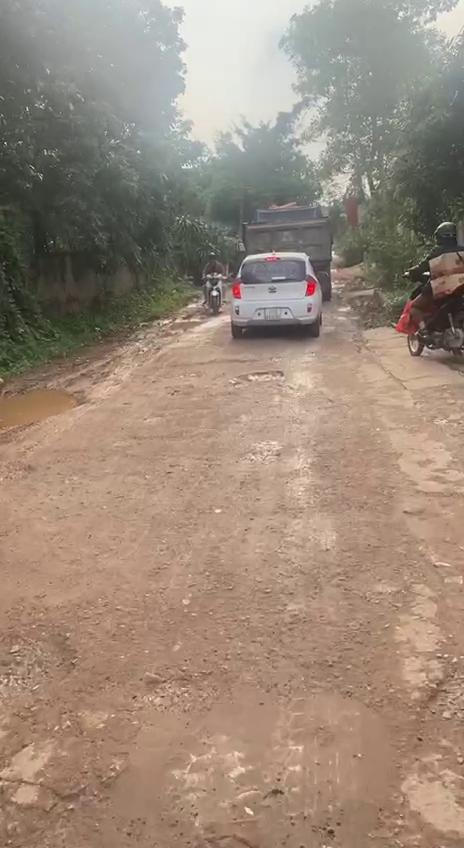pothole: (398, 658, 464, 848), (0, 614, 81, 724), (0, 379, 92, 436), (240, 368, 286, 384)
